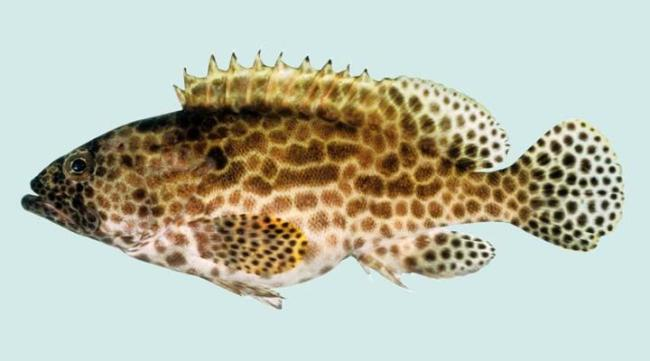fish: (21, 47, 626, 310)
